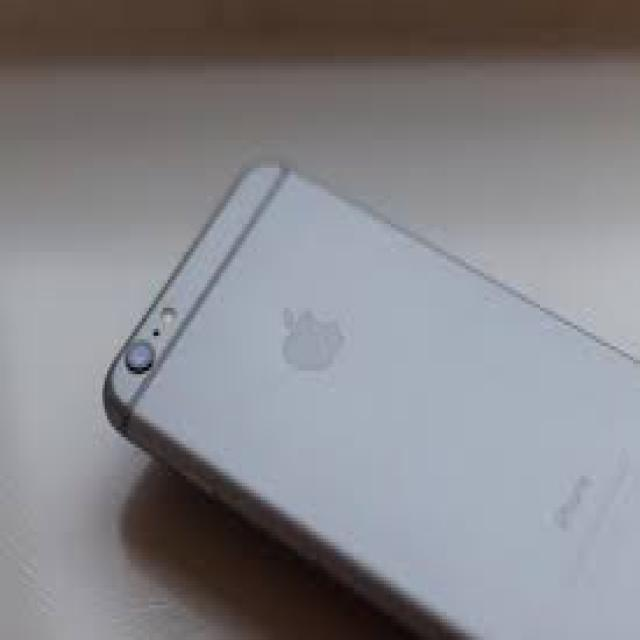mobile phone: (100, 154, 638, 636)
